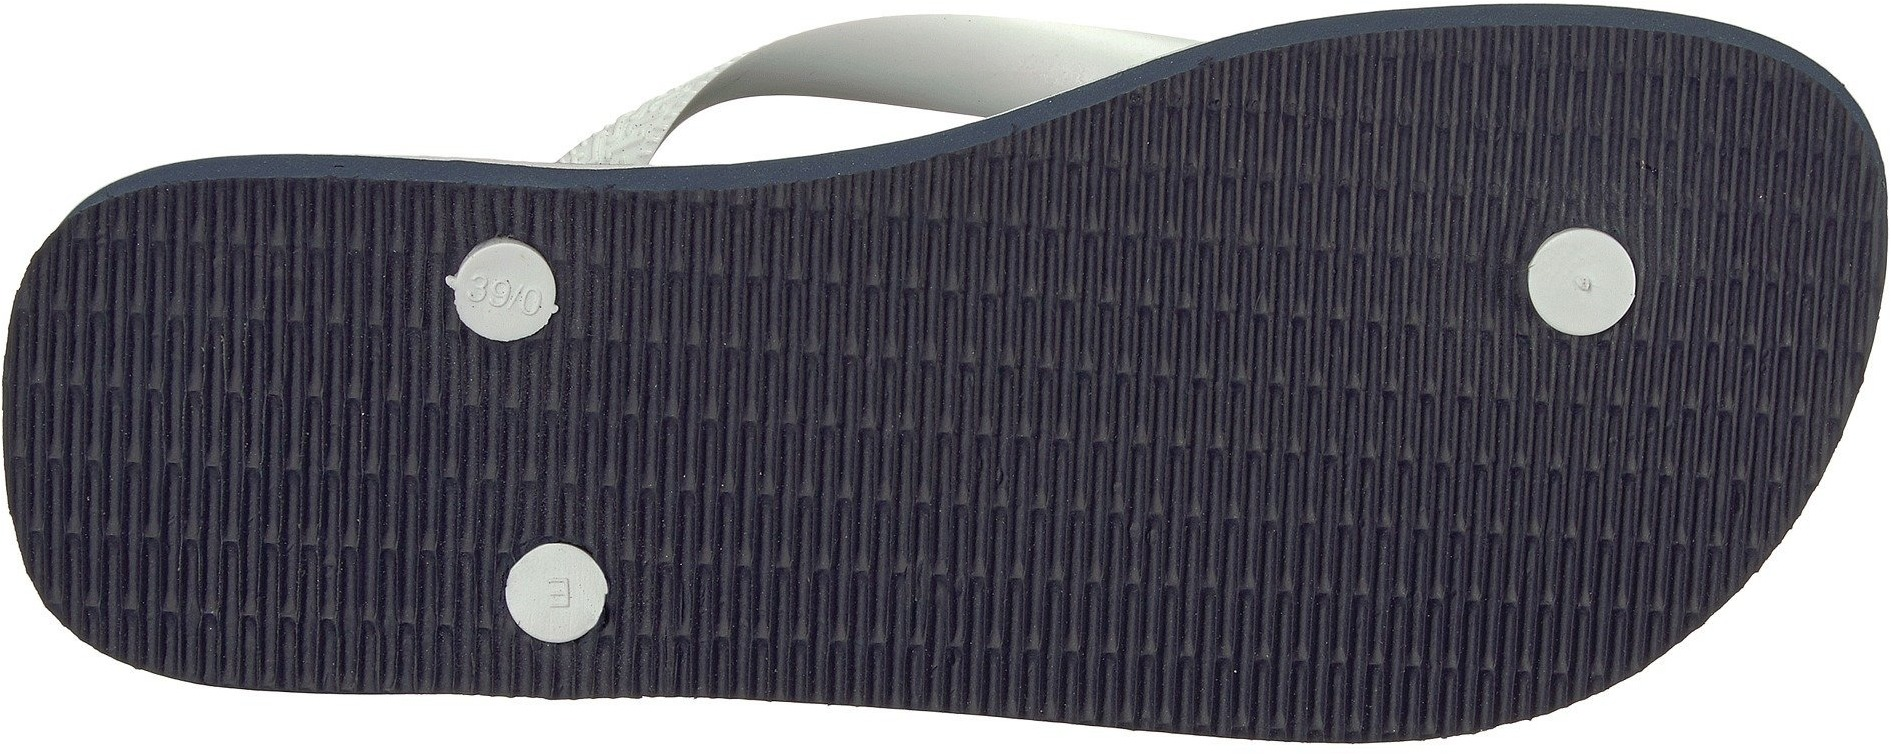circle: (1520, 211, 1646, 349)
text: (467, 264, 544, 333)
